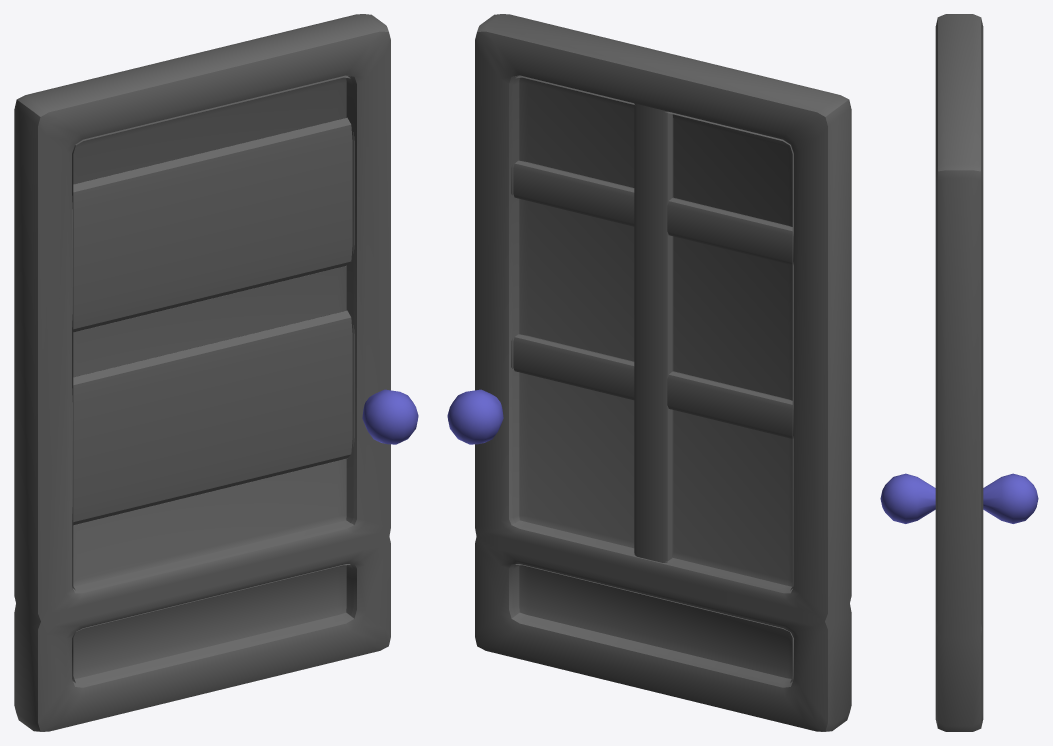
Rendered from SM_door_02.fbx.
The picture shows the model from 3 angles, left to right: view 1: azimuth 30°, elevation 25°; view 2: azimuth 150°, elevation 25°; view 3: azimuth 270°, elevation 25°; orthographic projection. The views are drawn at different scales.
Visible parts, largest first — view 1: Box368; view 2: Box368; view 3: Box368.
Boxes of the visible parts, left/top/right/bottom form: Box368: left=14, top=14, right=418, bottom=731; Box368: left=447, top=14, right=851, bottom=731; Box368: left=880, top=14, right=1038, bottom=731.
Bounding box in the file's own units: 47.73 × 78.74 × 19.91.
